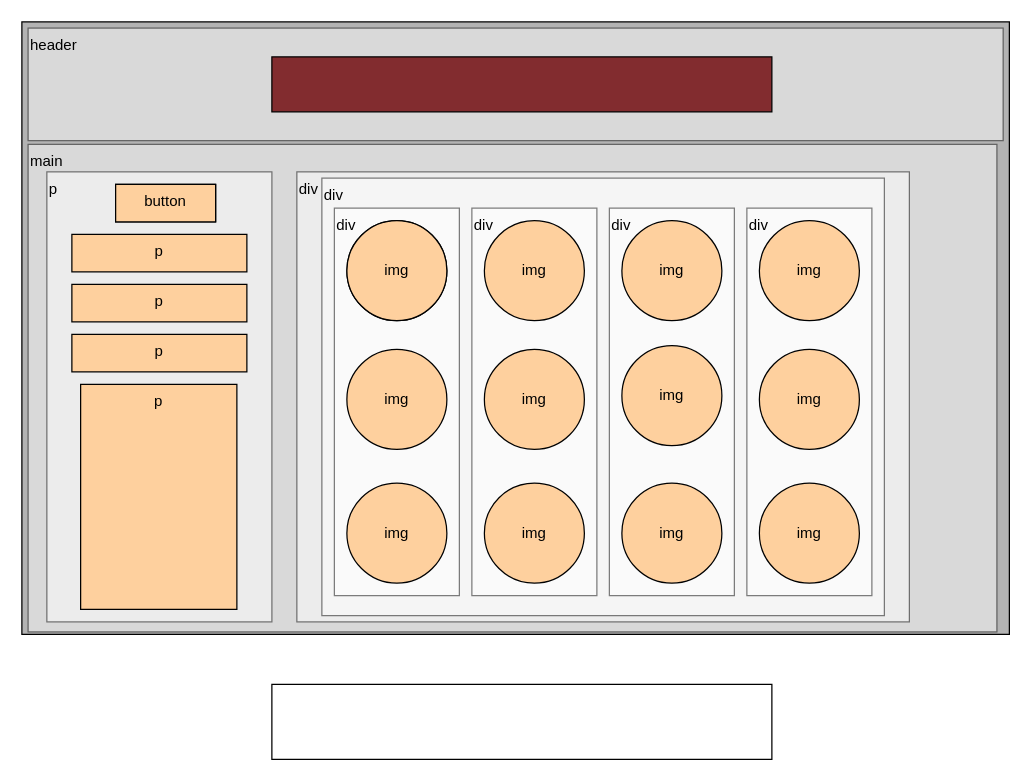
The diagram is 1031 pixels wide and 781 high, and some of its shapes have lost their labels. The centre of each missing label's shape, as x and y in pixels:
"h1" goes at point (521, 84).
"Large screen" goes at point (521, 721).
